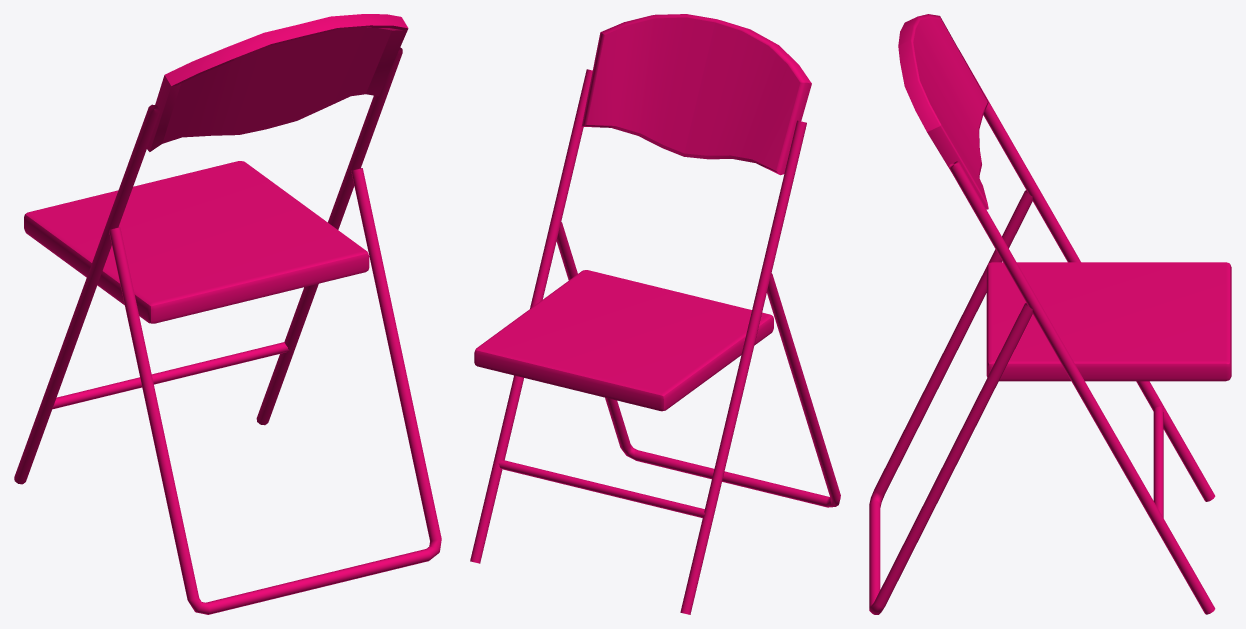
File: Chair_05.fbx
3 renders of one model, left to right at view 1: azimuth 30°, elevation 25°; view 2: azimuth 150°, elevation 25°; view 3: azimuth 270°, elevation 25°, orthographic. The views are drawn at different scales.
Visible parts, largest first — view 1: Chair_05; view 2: Chair_05; view 3: Chair_05.
Part boxes in pixels (x1,y1,x2,y2): Chair_05: [14, 14, 441, 614]; Chair_05: [470, 14, 840, 614]; Chair_05: [869, 14, 1231, 614].
Bounding box in the file's own units: 49.02 × 102 × 63.79.
